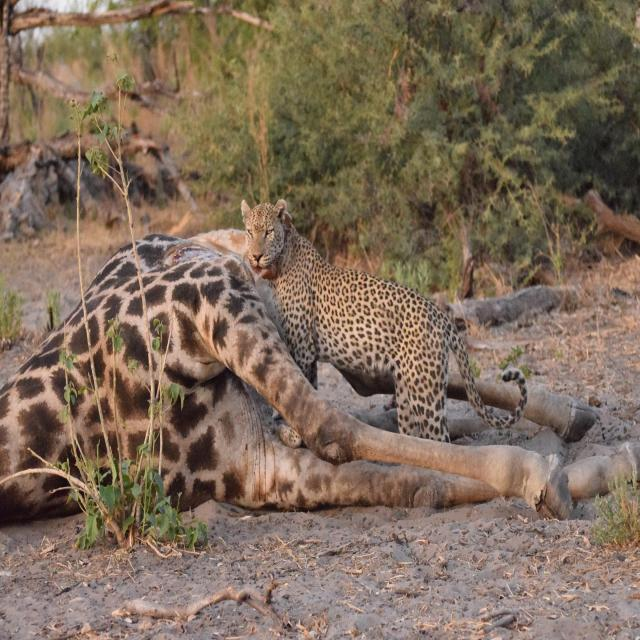Leopard: (235, 206, 536, 436)
